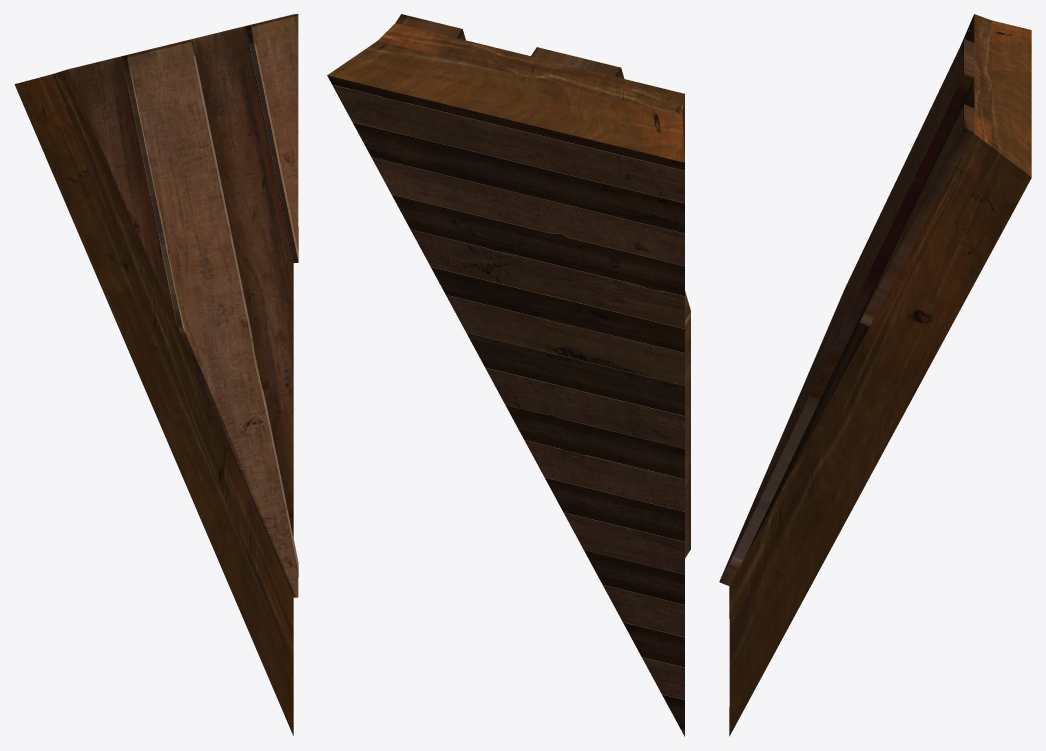
The picture shows the model from 3 angles, left to right: view 1: azimuth 30°, elevation 25°; view 2: azimuth 150°, elevation 25°; view 3: azimuth 270°, elevation 25°; orthographic projection. The views are drawn at different scales.
Parts seen in each view (by area): view 1: SM_BB_T2_Roof_Triangle_Steep_Large_LOD0; view 2: SM_BB_T2_Roof_Triangle_Steep_Large_LOD0; view 3: SM_BB_T2_Roof_Triangle_Steep_Large_LOD0.
Boxes of the visible parts, left/top/right/bottom form: SM_BB_T2_Roof_Triangle_Steep_Large_LOD0: left=14, top=14, right=298, bottom=735; SM_BB_T2_Roof_Triangle_Steep_Large_LOD0: left=327, top=14, right=690, bottom=736; SM_BB_T2_Roof_Triangle_Steep_Large_LOD0: left=719, top=14, right=1031, bottom=736.
Bounding box in the file's own units: 1.57 × 3.32 × 1.41.
2 materials, 2 textured.
